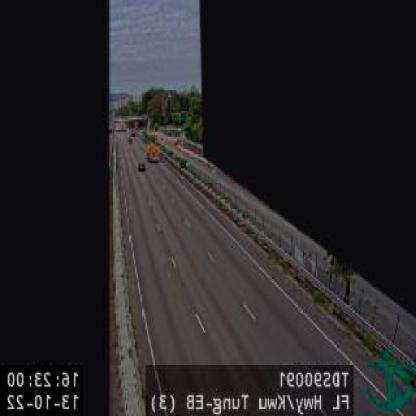Car: (138, 162, 146, 173)
Truck: (146, 139, 160, 163)
